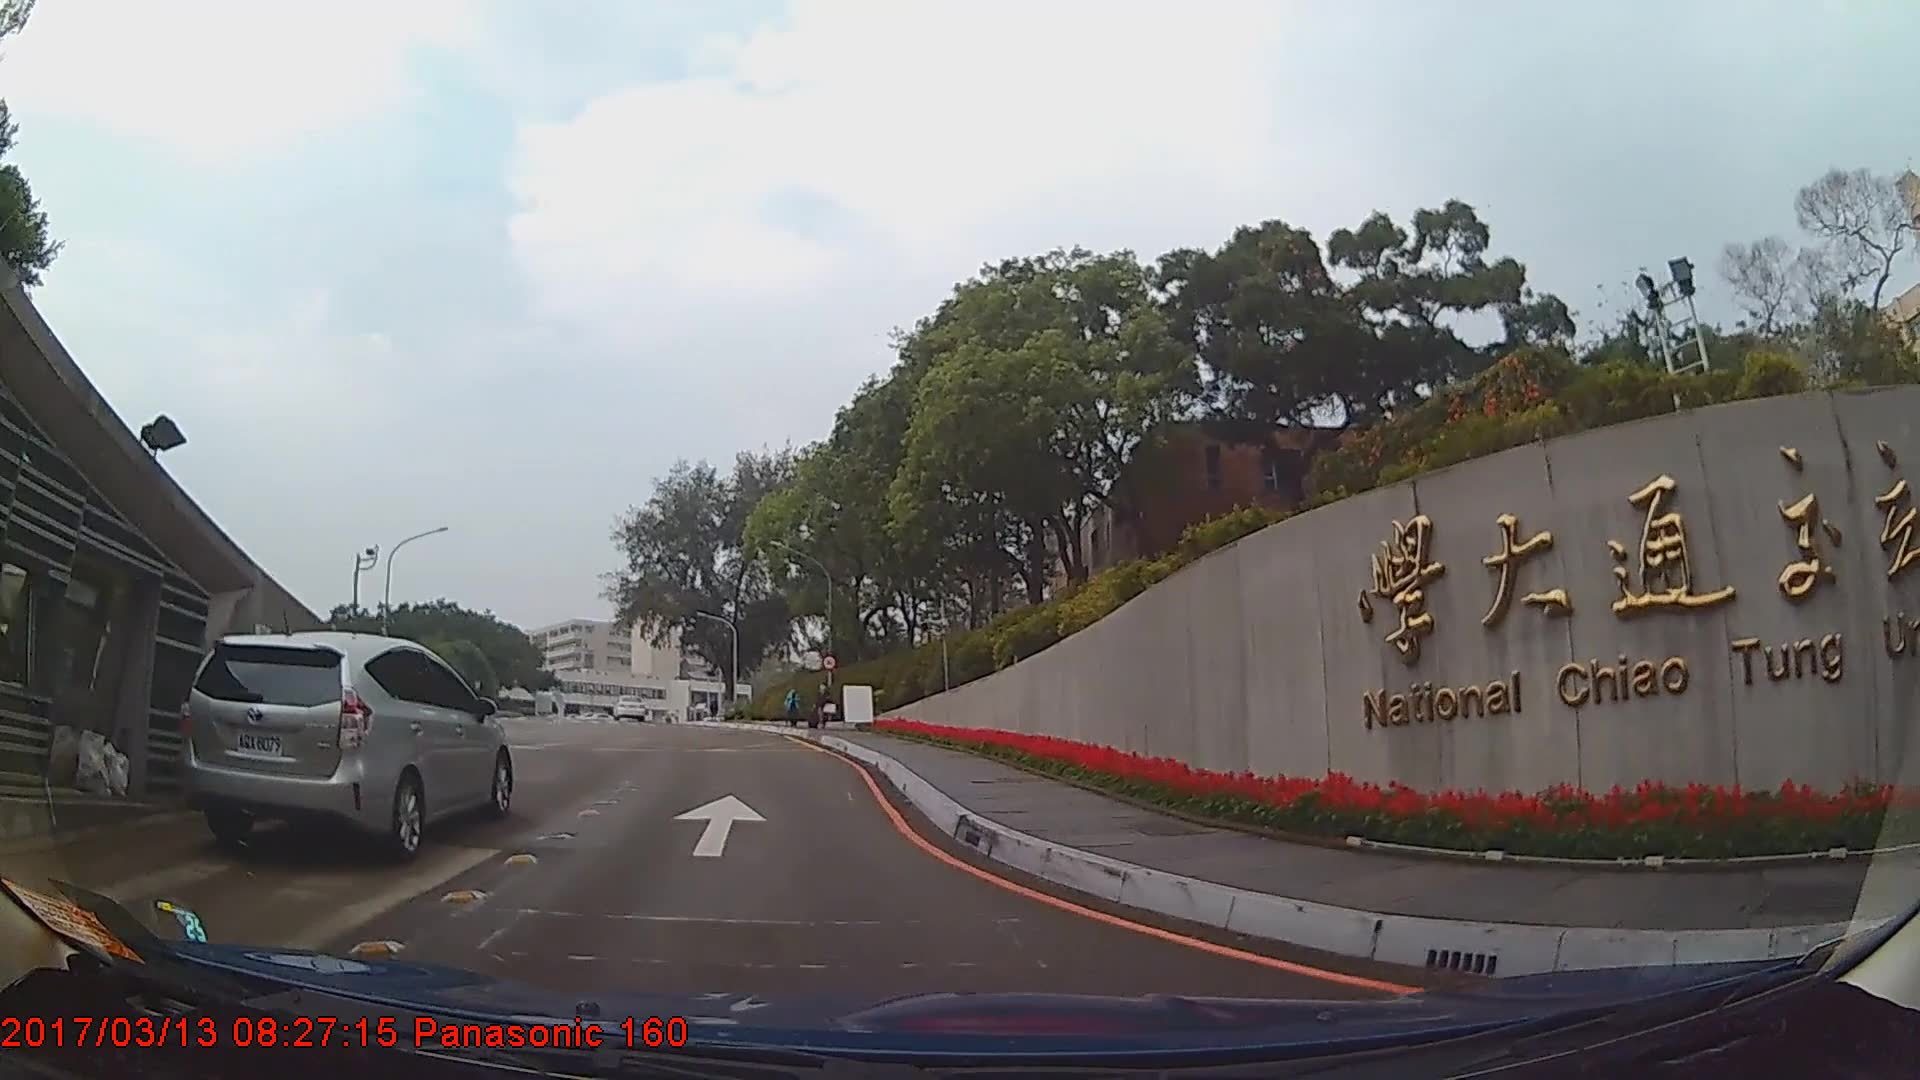pedestrian: (809, 681, 839, 731), (785, 688, 806, 734)
vehicle: (178, 634, 513, 865), (608, 693, 646, 722)
